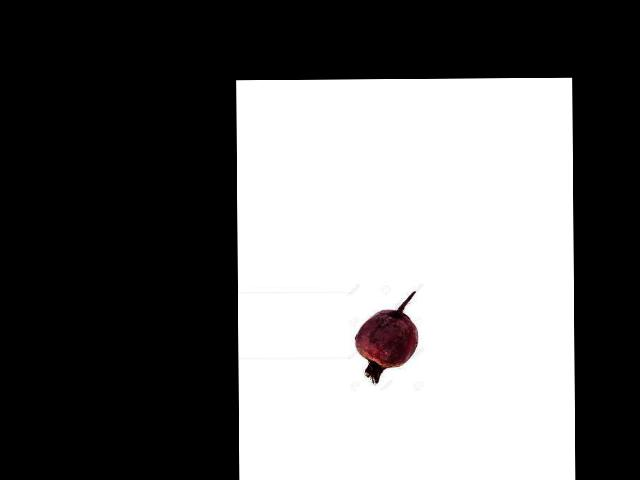beet: (355, 292, 418, 384)
